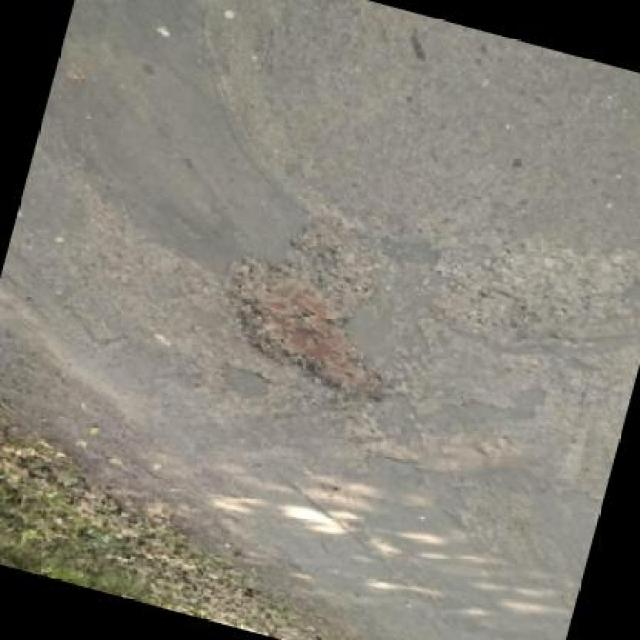pothole: (210, 253, 418, 415)
